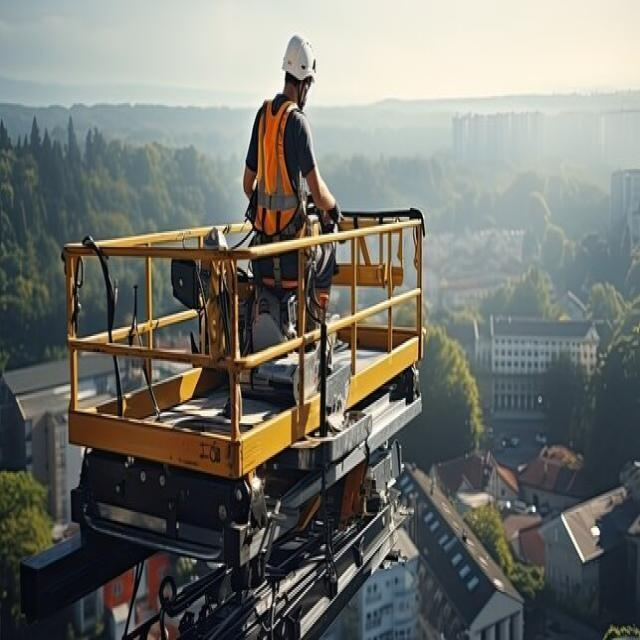Arnes_seguridad: (241, 215, 336, 352), (245, 96, 311, 233)
